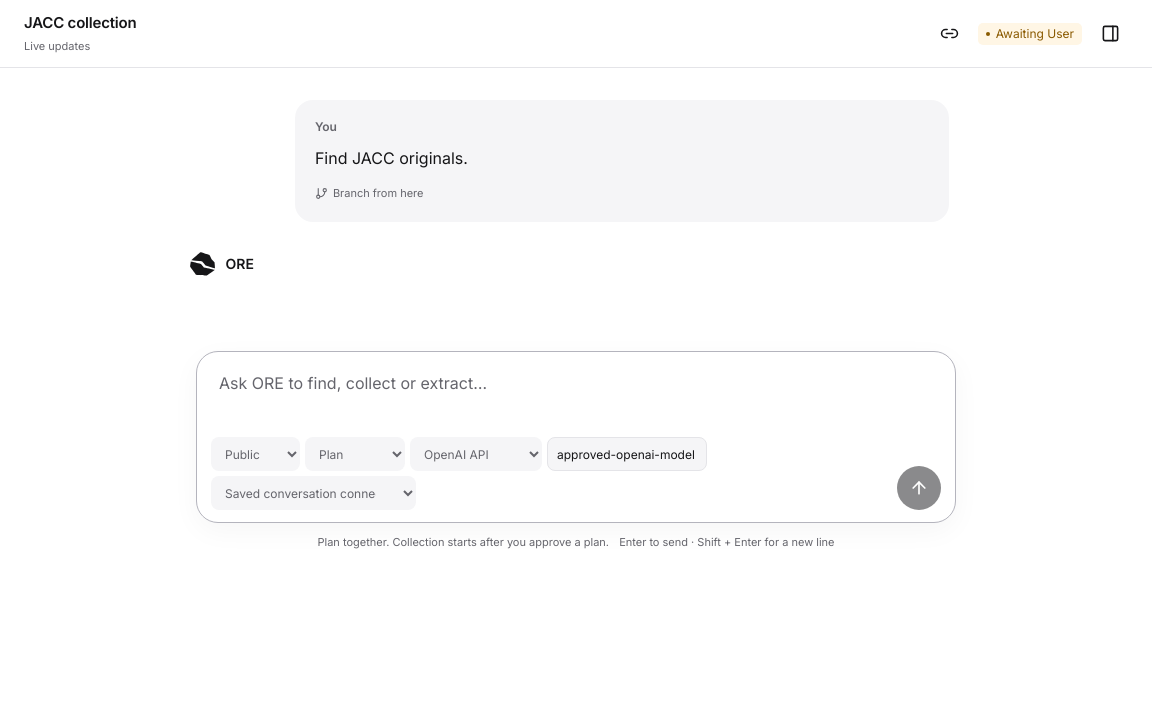
Test: does not reuse a saved API credential reference after switching provider
Expected: the heading "JACC collection" is shown, 24,13 -> 136,32
Type "Collect the report" into the text box named "Message ORE". click: [576, 397]
box: 211,364 -> 941,429
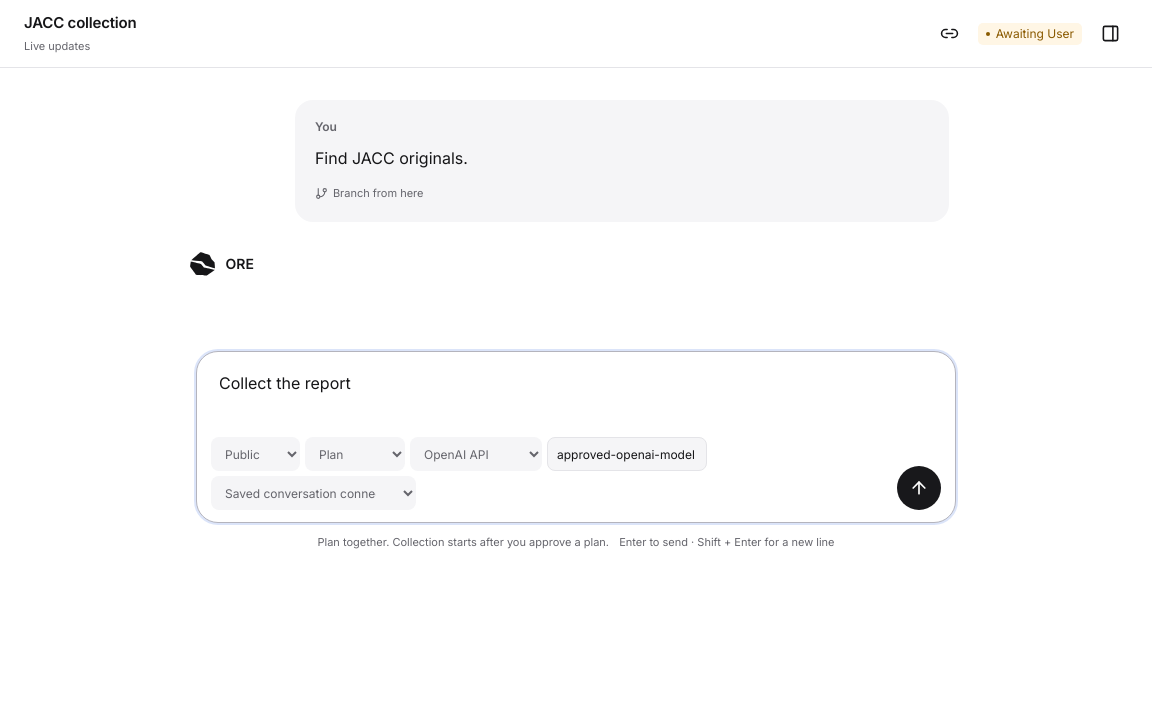
Expected: the button named "Send message" is enabled, 897,466 -> 941,510
Select "Anthropic API" in the dropdown named "Agent account". click: [476, 454]
box: 410,437 -> 542,471
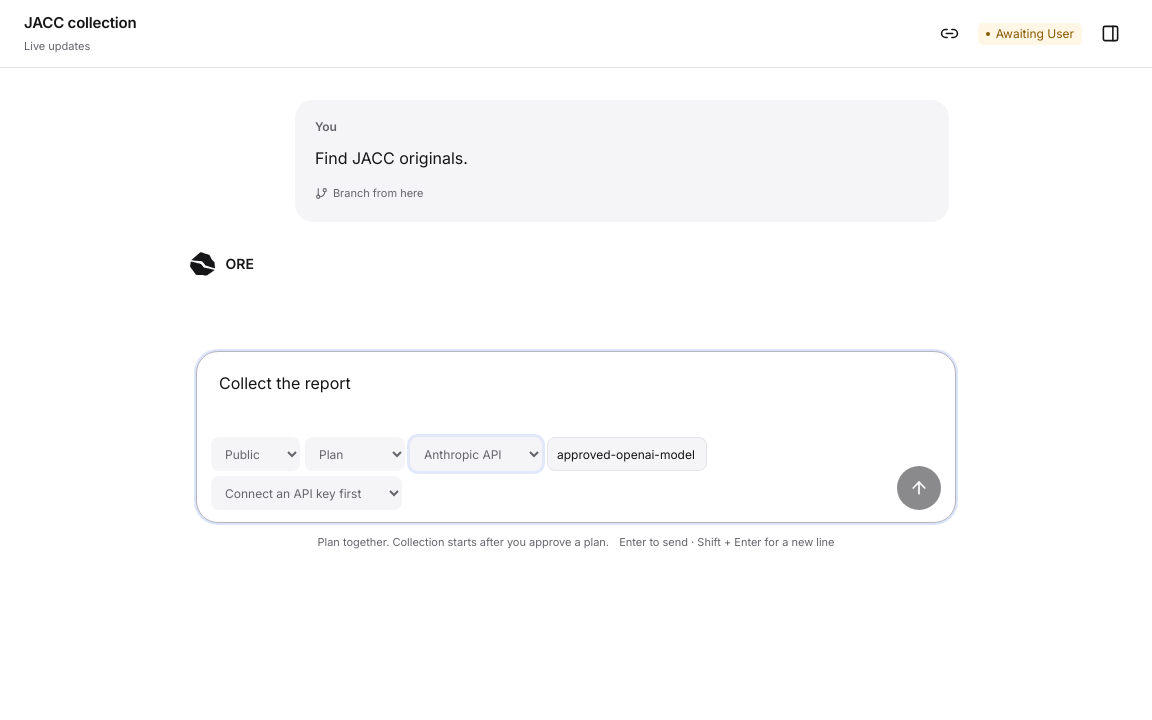
Expected: the button named "Send message" is disabled, 897,466 -> 941,510
